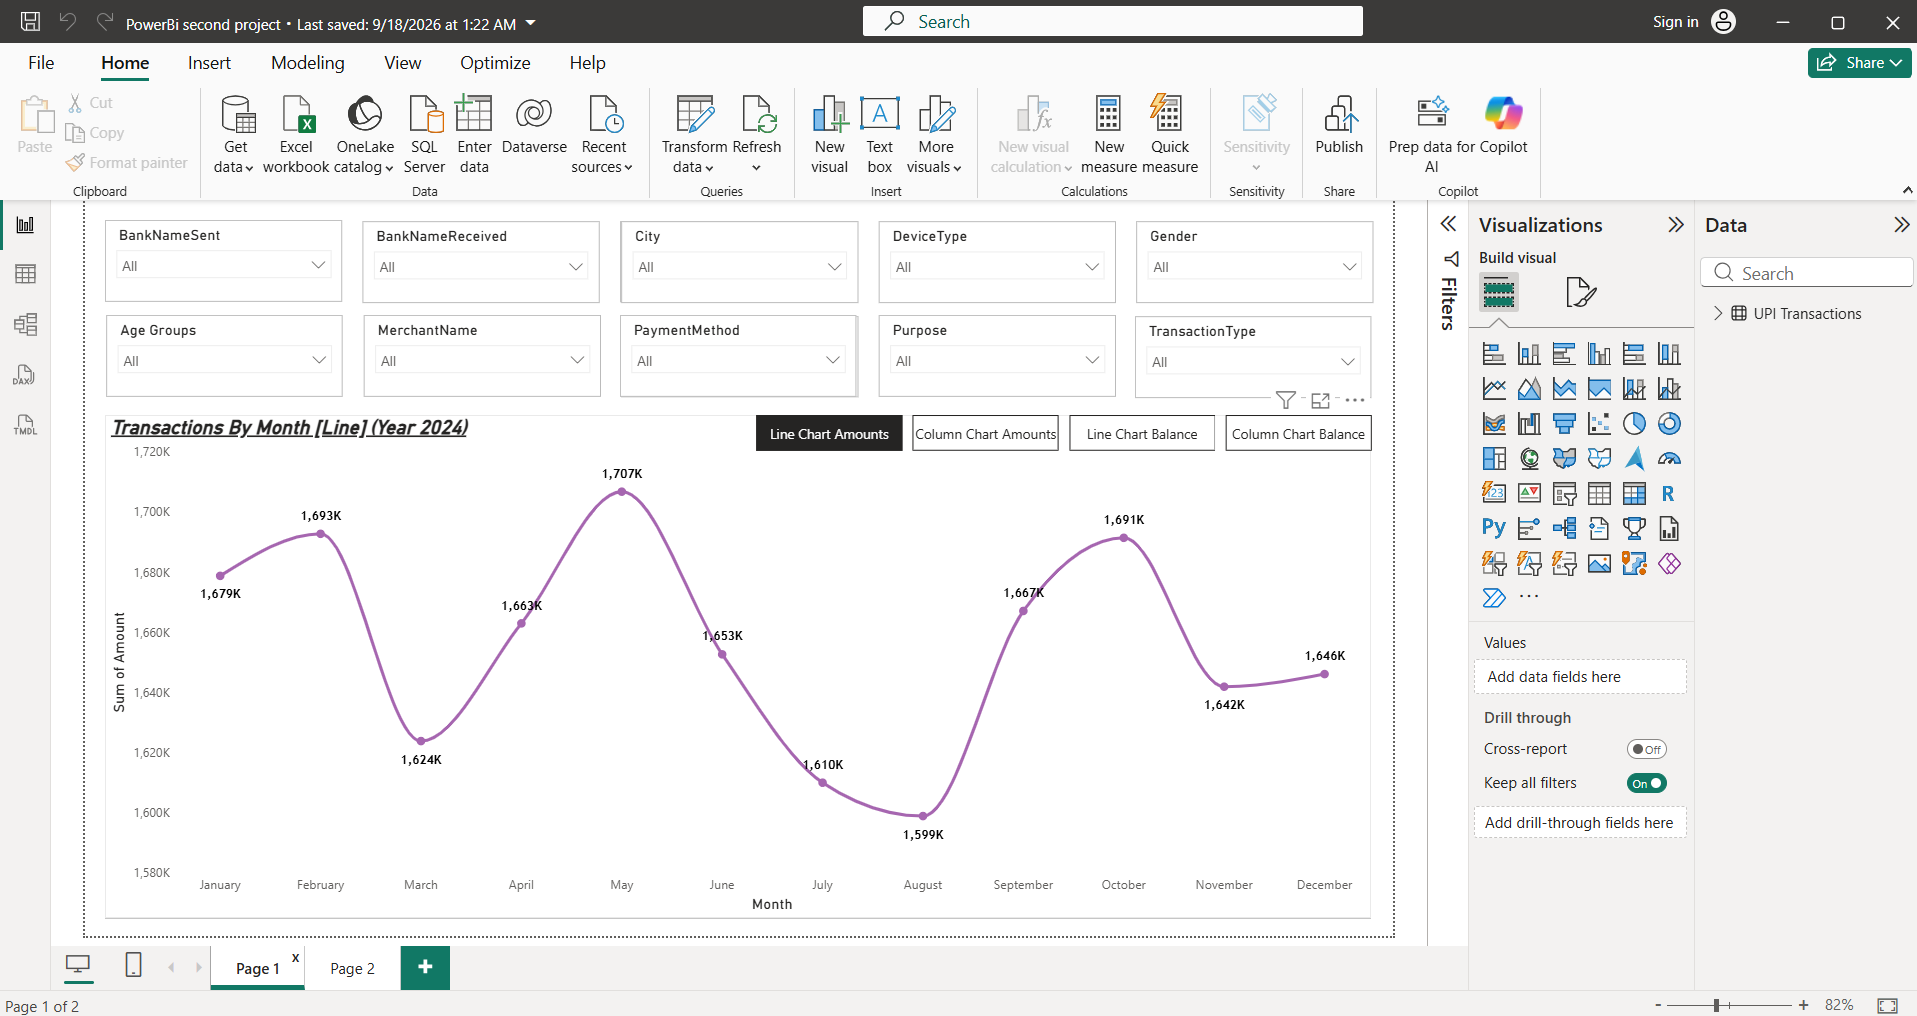

Layout of this report page (visuals, bound fields, positions):
{"tool":"powerbi","page":{"name":"Page 1","canvas":[1280,720],"ordinal":0},"visuals":[{"type":"slicer","fields":{"Values":["UPI Transactions.BankNameSent"]},"box":[20,20,232,80],"z":0},{"type":"slicer","fields":{"Values":["UPI Transactions.BankNameReceived"]},"box":[272,20.6,231.9,80],"z":1000},{"type":"slicer","fields":{"Values":["UPI Transactions.BankNameSent"]},"box":[522.8,20.6,231.9,79.6],"z":2000},{"type":"slicer","fields":{"Values":["UPI Transactions.City"]},"box":[524,20.6,231.9,80],"z":3000},{"type":"slicer","fields":{"Values":["UPI Transactions.DeviceType"]},"box":[776,20.6,231.9,80],"z":4000},{"type":"slicer","fields":{"Values":["UPI Transactions.Gender"]},"box":[1028,20.6,231.9,80],"z":5000},{"type":"slicer","fields":{"Values":["UPI Transactions.Age Groups"]},"box":[20.8,113.1,231.5,80],"z":6000},{"type":"slicer","fields":{"Values":["UPI Transactions.MerchantName"]},"box":[272.3,113.1,232.3,80],"z":7000},{"type":"slicer","fields":{"Values":["UPI Transactions.BankNameSent"]},"box":[524,114,231.9,79.6],"z":8000},{"type":"slicer","fields":{"Values":["UPI Transactions.PaymentMethod"]},"box":[523.8,113.1,231.5,80],"z":9000},{"type":"slicer","fields":{"Values":["UPI Transactions.Purpose"]},"box":[776.2,113.1,232.3,80],"z":10000},{"type":"slicer","fields":{"Values":["UPI Transactions.TransactionType"]},"box":[1027.7,113.8,231.5,80],"z":11000},{"type":"lineChart","title":"Transactions By Month [Line] (Year 2024)","fields":{"Y":["Sum(UPI Transactions.Amount)"],"Category":["UPI Transactions.TransactionDate.Variation.Date Hierarchy.Month"]},"box":[20,210,1238.8,492.5],"z":12000},{"type":"bookmarkNavigator","box":[656.2,210,602.5,35],"z":16500}]}

Visuals, with their boxes on the page's 1280x720 design canvas (x1, y1, x2, y2). These are canvas units, not pixel positions in the 1917x1016 screenshot, which may show the page scaled, cropped or inside an application window:
slicer - UPI Transactions.BankNameSent: [left=20, top=20, right=252, bottom=100]
slicer - UPI Transactions.BankNameReceived: [left=272, top=21, right=504, bottom=101]
slicer - UPI Transactions.BankNameSent: [left=523, top=21, right=755, bottom=100]
slicer - UPI Transactions.City: [left=524, top=21, right=756, bottom=101]
slicer - UPI Transactions.DeviceType: [left=776, top=21, right=1008, bottom=101]
slicer - UPI Transactions.Gender: [left=1028, top=21, right=1260, bottom=101]
slicer - UPI Transactions.Age Groups: [left=21, top=113, right=252, bottom=193]
slicer - UPI Transactions.MerchantName: [left=272, top=113, right=505, bottom=193]
slicer - UPI Transactions.BankNameSent: [left=524, top=114, right=756, bottom=194]
slicer - UPI Transactions.PaymentMethod: [left=524, top=113, right=755, bottom=193]
slicer - UPI Transactions.Purpose: [left=776, top=113, right=1008, bottom=193]
slicer - UPI Transactions.TransactionType: [left=1028, top=114, right=1259, bottom=194]
"Transactions By Month [Line] (Year 2024)" lineChart: [left=20, top=210, right=1259, bottom=702]
bookmarkNavigator: [left=656, top=210, right=1259, bottom=245]
